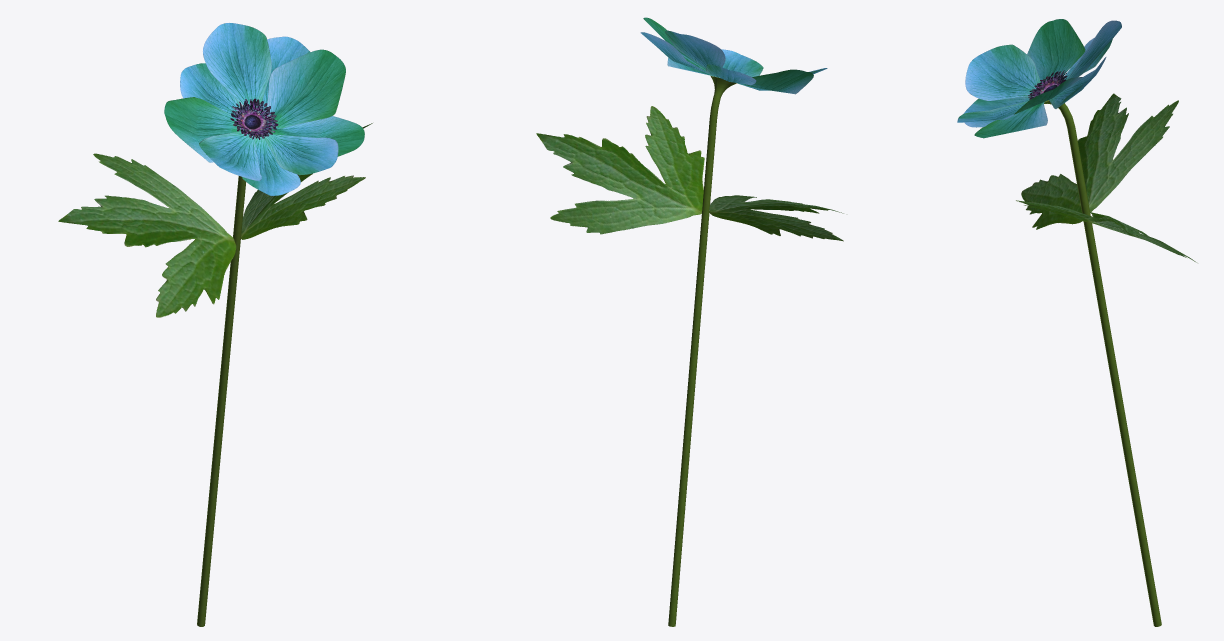
3 renders of one model, left to right at view 1: azimuth 30°, elevation 25°; view 2: azimuth 150°, elevation 25°; view 3: azimuth 270°, elevation 25°, orthographic. The views are drawn at different scales.
Parts seen in each view (by area): view 1: Cylinder; view 2: Cylinder; view 3: Cylinder.
Boxes of the visible parts, left/top/right/bottom form: Cylinder: left=58, top=23, right=372, bottom=626; Cylinder: left=536, top=17, right=843, bottom=626; Cylinder: left=957, top=19, right=1196, bottom=626.
Bounding box in the file's own units: 1060 × 1652 × 638.
1 material, 1 textured.
